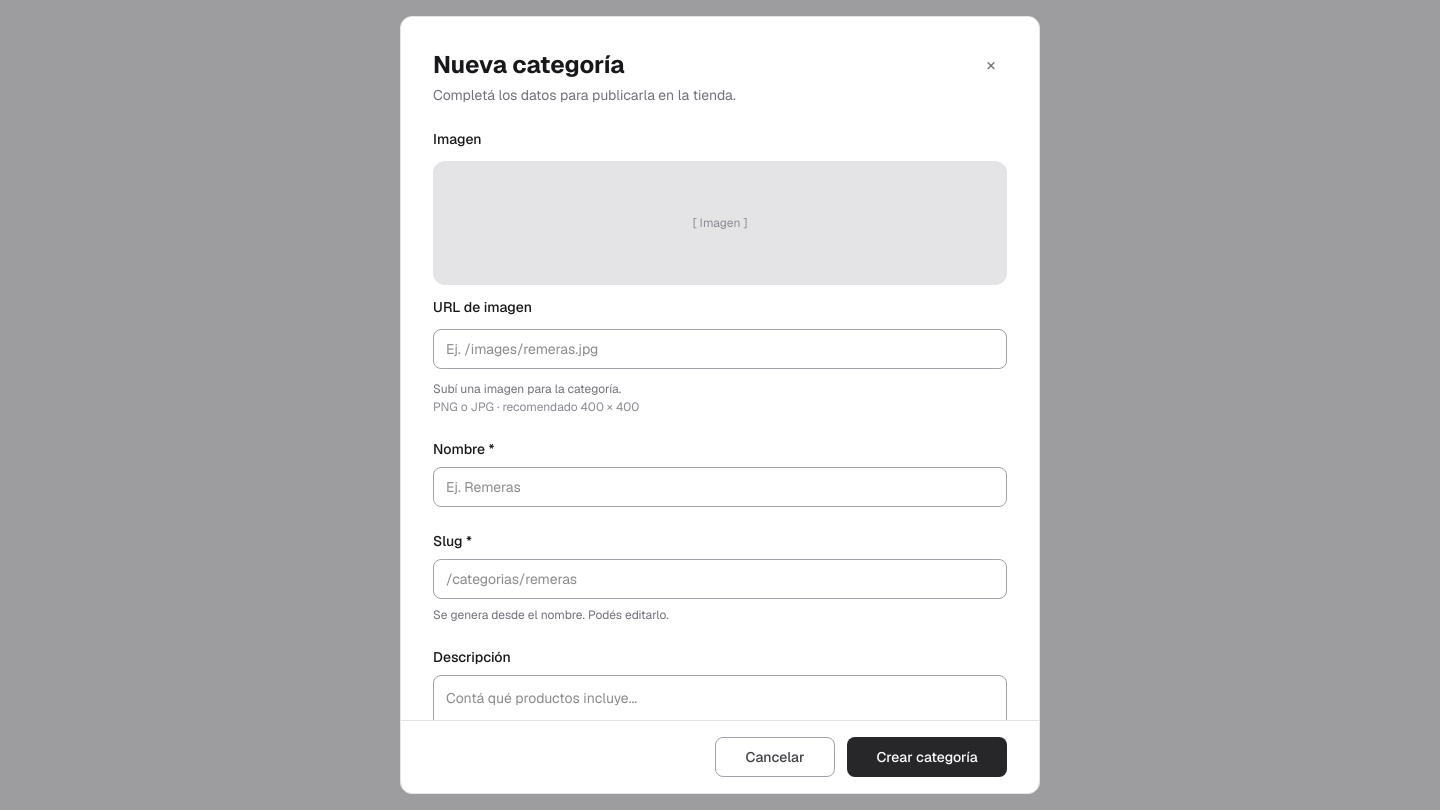
Scenario: AdminCategoryFormModal › creates a category with a generated slug and the active flag
The image size is (1440, 810).
Later steps or results of the test are not shown.
Expected: the heading "Nueva categoría" is shown, left=433, top=49, right=624, bottom=80
Expected: the text "Completá los datos para publicarla en la tienda." is shown, left=433, top=85, right=736, bottom=105
Type "Remeras" into the field labelled "Nombre *" at (720, 487), box left=433, top=467, right=1007, bottom=507
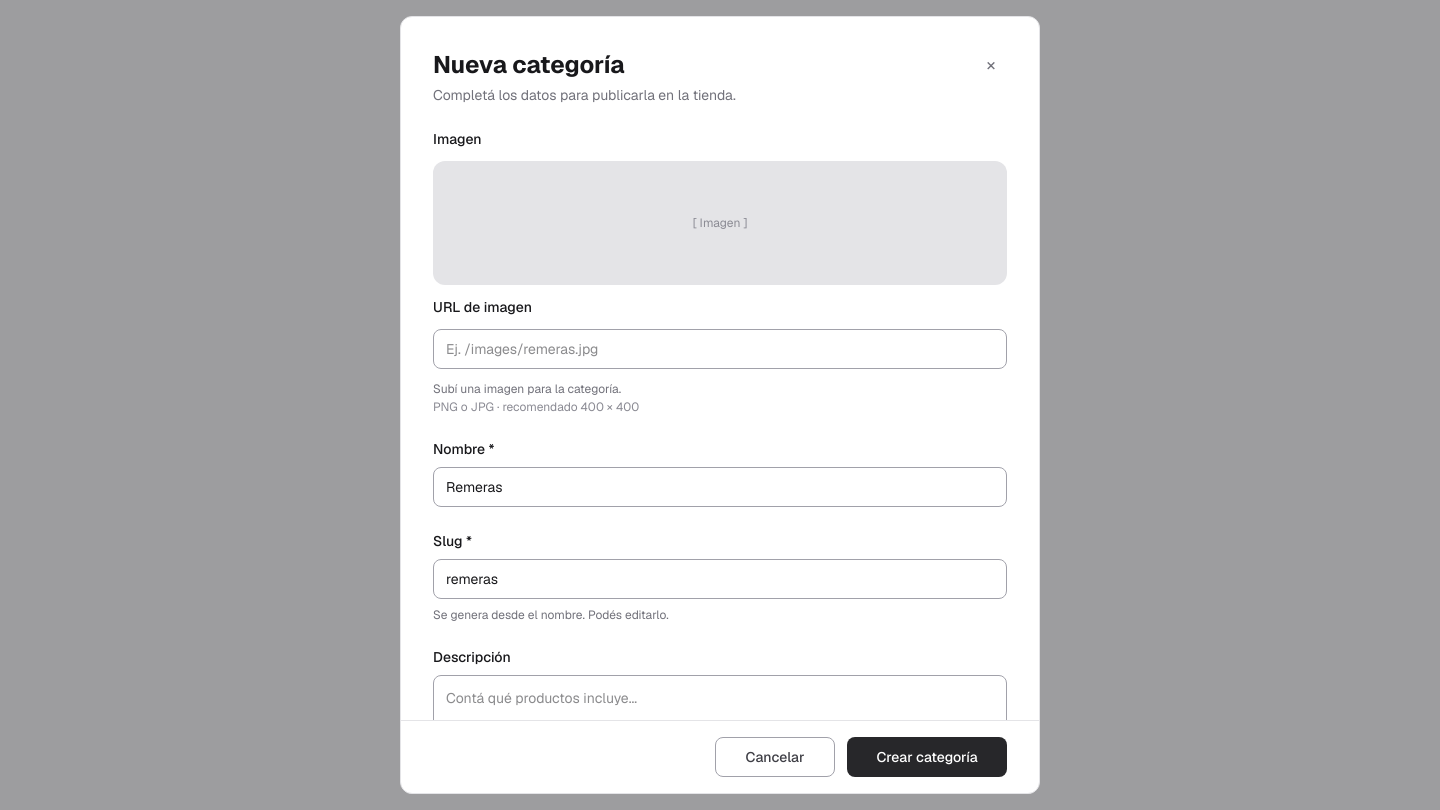
Now the field labelled "Slug *" holds "remeras", box left=433, top=559, right=1007, bottom=599
